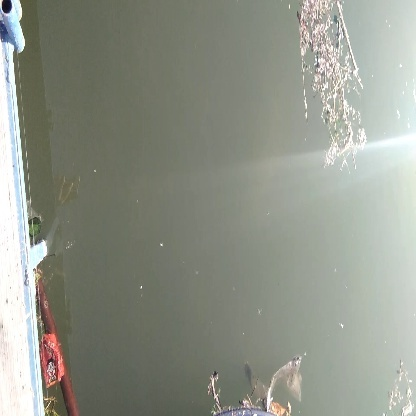milk-box: (37, 324, 75, 389)
